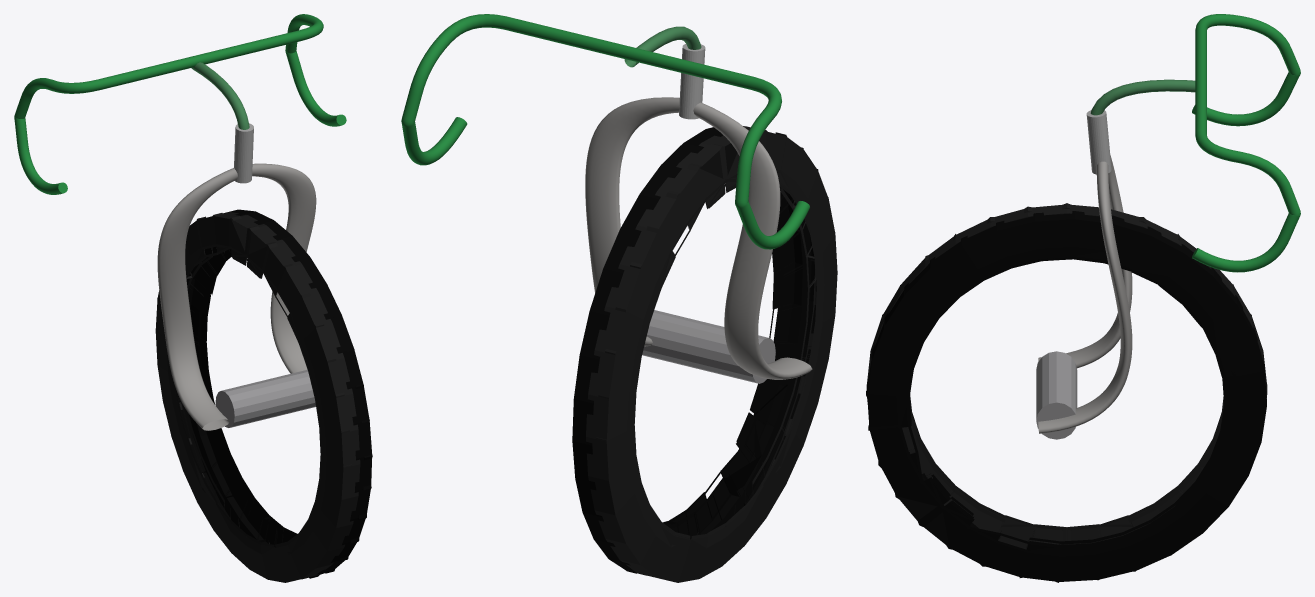
The model's file is Guidon.glb.
3 views of the same model, side by side, from view 1: azimuth 30°, elevation 25°; view 2: azimuth 150°, elevation 25°; view 3: azimuth 270°, elevation 25° (orthographic). The views are drawn at different scales.
Visible parts, largest first — view 1: Cercle, Cercle.001, CheminNURBS, guidon, Cylindre.001, Cylindre, CheminNURBS.001; view 2: Cercle, Cercle.001, CheminNURBS, guidon, Cylindre.001, Cylindre, CheminNURBS.001; view 3: Cercle.001, Cercle, guidon, CheminNURBS, Cylindre.001, CheminNURBS.001, Cylindre.
Boxes of the visible parts, x1,y1,x2,y2 form: Cercle: (155, 212, 360, 582); Cercle.001: (177, 209, 372, 579); CheminNURBS: (157, 163, 316, 430); guidon: (14, 14, 346, 194); Cylindre.001: (215, 369, 315, 427); Cylindre: (234, 123, 253, 183); CheminNURBS.001: (191, 62, 249, 129); Cercle: (586, 126, 837, 582); Cercle.001: (572, 126, 816, 575); CheminNURBS: (585, 97, 812, 379); guidon: (401, 14, 809, 249); Cylindre.001: (642, 310, 775, 383); Cylindre: (679, 44, 705, 119); CheminNURBS.001: (624, 26, 701, 67); Cercle.001: (866, 211, 1266, 582); Cercle: (866, 203, 1267, 549); guidon: (1192, 14, 1300, 272); CheminNURBS: (1038, 155, 1132, 433); Cylindre.001: (1036, 351, 1077, 439); CheminNURBS.001: (1090, 79, 1195, 115); Cylindre: (1086, 110, 1111, 174).
Size of the model in its own units: 2.44 by 3.73 by 2.96.
